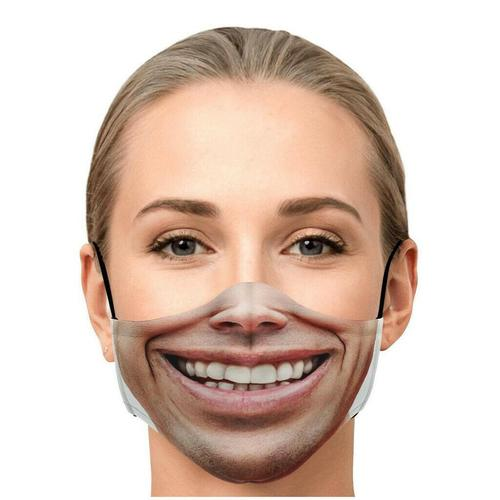mask: (99, 83, 392, 471)
